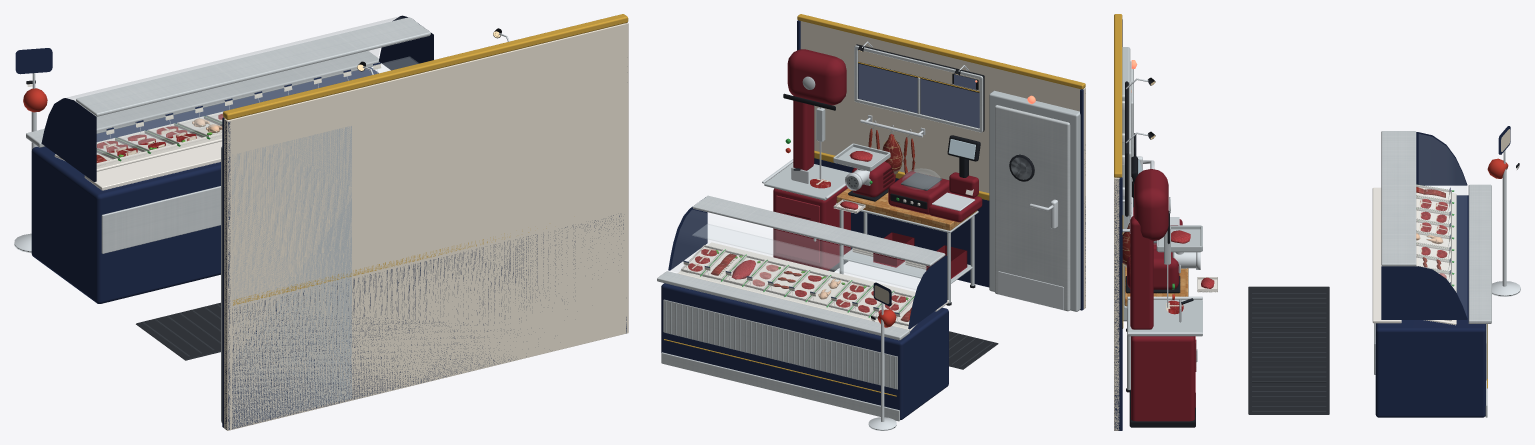
The model's file is sector-acougue_T2.fbx.
3 views of the same model, side by side, from view 1: azimuth 30°, elevation 25°; view 2: azimuth 150°, elevation 25°; view 3: azimuth 270°, elevation 25° (orthographic). The views are drawn at different scales.
Parts seen in each view (by area): view 1: Back Wall, Body, Wall Dressing; view 2: Body, Wall Dressing, Back Wall; view 3: Body, Back Wall, Wall Dressing.
Boxes of the visible parts, <box> form: Back Wall: <box>222,14,628,430</box>; Body: <box>14,15,433,360</box>; Wall Dressing: <box>221,28,509,426</box>; Body: <box>657,49,998,430</box>; Wall Dressing: <box>854,41,1080,311</box>; Back Wall: <box>797,14,1085,310</box>; Body: <box>1124,126,1520,427</box>; Back Wall: <box>1114,14,1123,430</box>; Wall Dressing: <box>1122,47,1155,321</box>.
Size of the model in its own units: 3.25 by 2.45 by 3.5.
